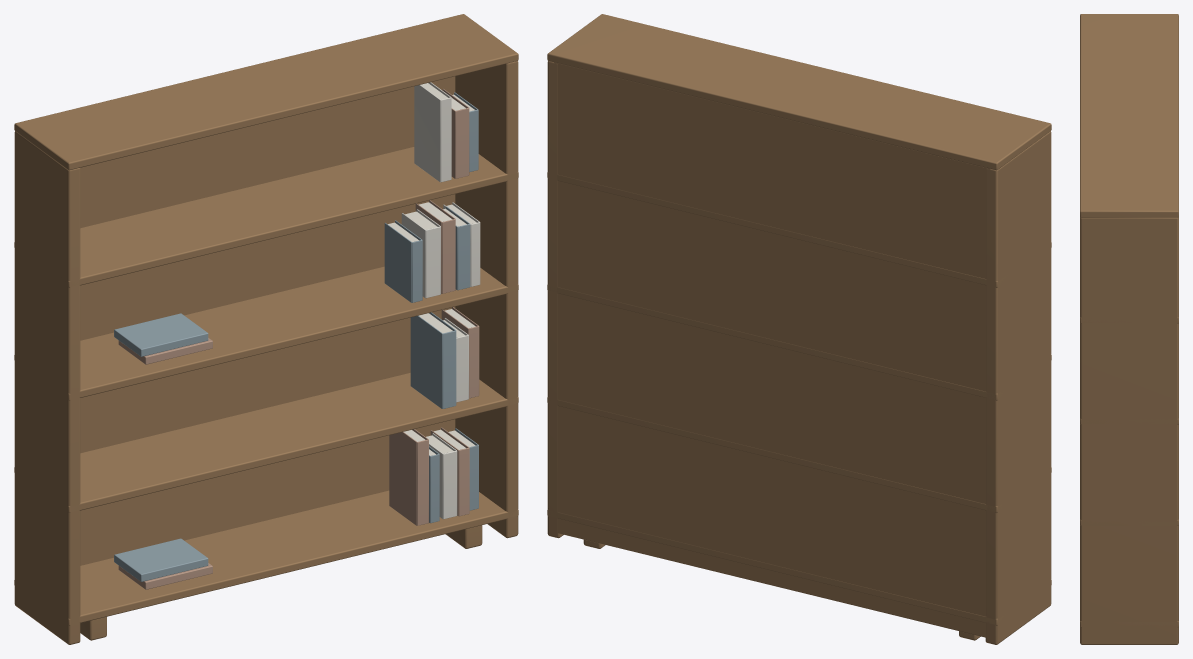
File: Bookcase.fbx
3 renders of one model, left to right at view 1: azimuth 30°, elevation 25°; view 2: azimuth 150°, elevation 25°; view 3: azimuth 270°, elevation 25°, orthographic. The views are drawn at different scales.
Visible parts, largest first — view 1: Bookcase; view 2: Bookcase; view 3: Bookcase.
Boxes of the visible parts, box(x1,y1,x2,y2) form: Bookcase: box(14, 14, 518, 644); Bookcase: box(547, 14, 1051, 644); Bookcase: box(1080, 14, 1178, 644).
Size of the model in its own units: 1.8 by 1.88 by 0.38.
